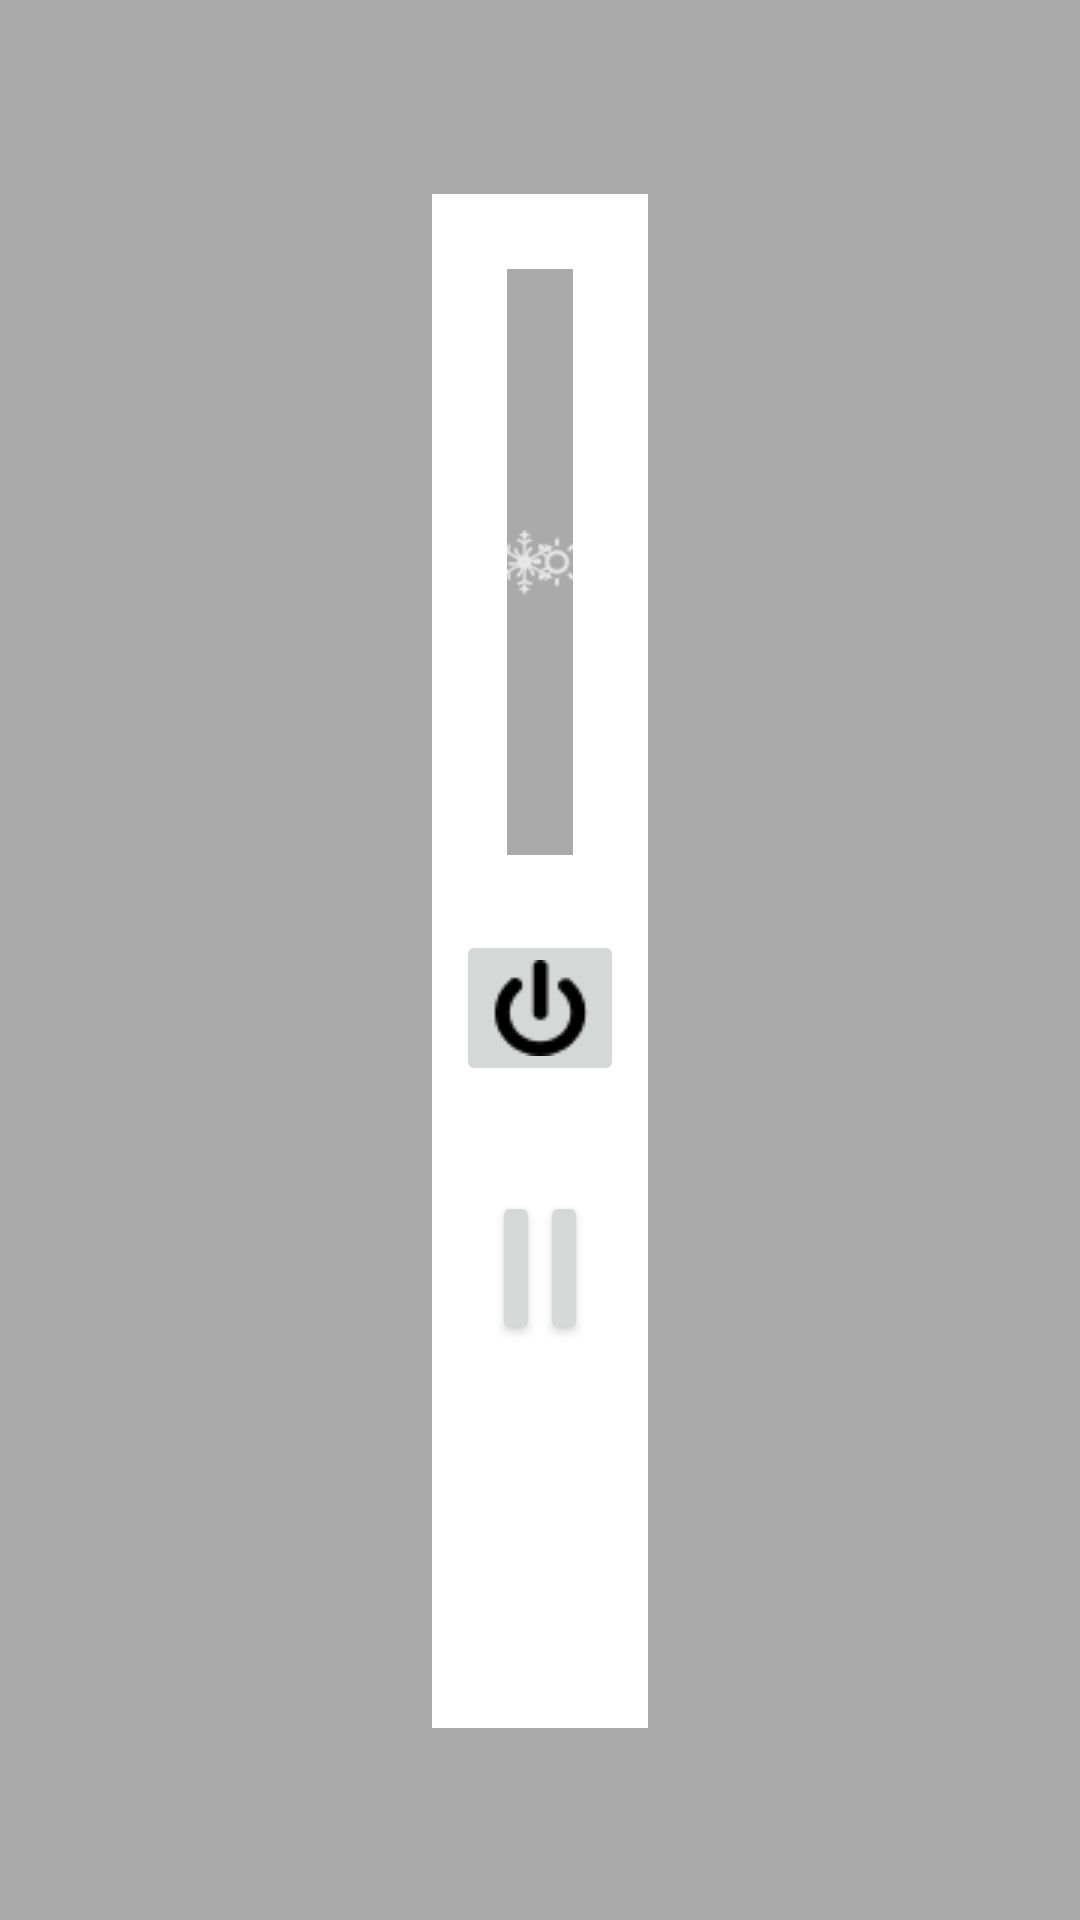

Point at icon controls on the screen. Image size 1080px×1920px, points as (x=x, y=y).
switchicon: (x=540, y=1008)
